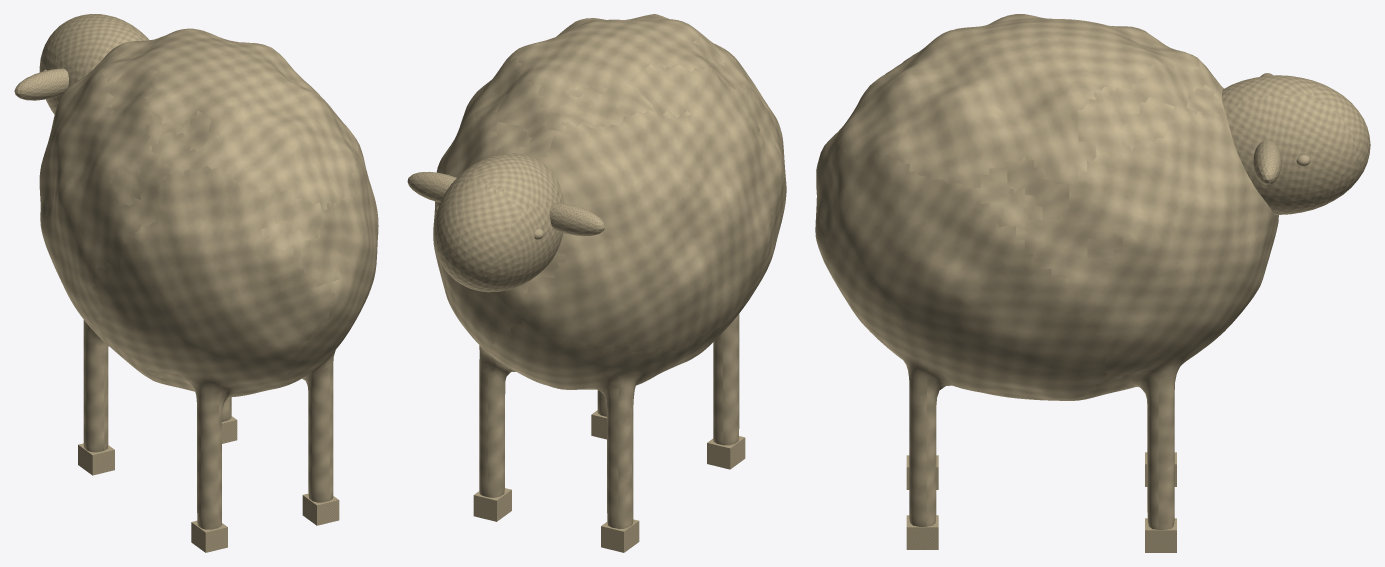
The model's file is sheep_weld_review.glb.
3 views of the same model, side by side, from view 1: azimuth 30°, elevation 25°; view 2: azimuth 150°, elevation 25°; view 3: azimuth 270°, elevation 25° (orthographic). The views are drawn at different scales.
Parts seen in each view (by area): view 1: welded_body_review, head_snout, ear_-1, leg_HR_hoof, leg_HL_hoof, leg_FL_hoof; view 2: welded_body_review, head_snout, ear_-1, ear_1, leg_FR_hoof, leg_HL_hoof, leg_FL_hoof; view 3: welded_body_review, head_snout, ear_1, leg_HR_hoof, leg_FR_hoof.
Boxes of the visible parts, left/top/right/bottom form: welded_body_review: left=39, top=28, right=378, bottom=529; head_snout: left=39, top=14, right=149, bottom=114; ear_-1: left=14, top=68, right=68, bottom=100; leg_HR_hoof: left=302, top=493, right=339, bottom=525; leg_HL_hoof: left=191, top=520, right=227, bottom=552; leg_FL_hoof: left=78, top=443, right=114, bottom=475; welded_body_review: left=433, top=14, right=786, bottom=528; head_snout: left=433, top=153, right=564, bottom=292; ear_-1: left=549, top=203, right=604, bottom=236; ear_1: left=407, top=171, right=456, bottom=202; leg_FR_hoof: left=473, top=488, right=511, bottom=521; leg_HL_hoof: left=707, top=436, right=745, bottom=469; leg_FL_hoof: left=601, top=519, right=639, bottom=552; welded_body_review: left=815, top=14, right=1278, bottom=529; head_snout: left=1221, top=75, right=1370, bottom=214; ear_1: left=1253, top=140, right=1281, bottom=184; leg_HR_hoof: left=906, top=515, right=938, bottom=549; leg_FR_hoof: left=1145, top=518, right=1176, bottom=552.
Size of the model in its own units: 0.9657 by 1.49 by 1.56.
1 material, 1 textured.
